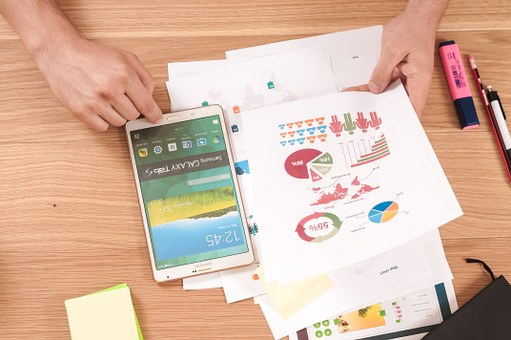mobile: (123, 97, 262, 279)
